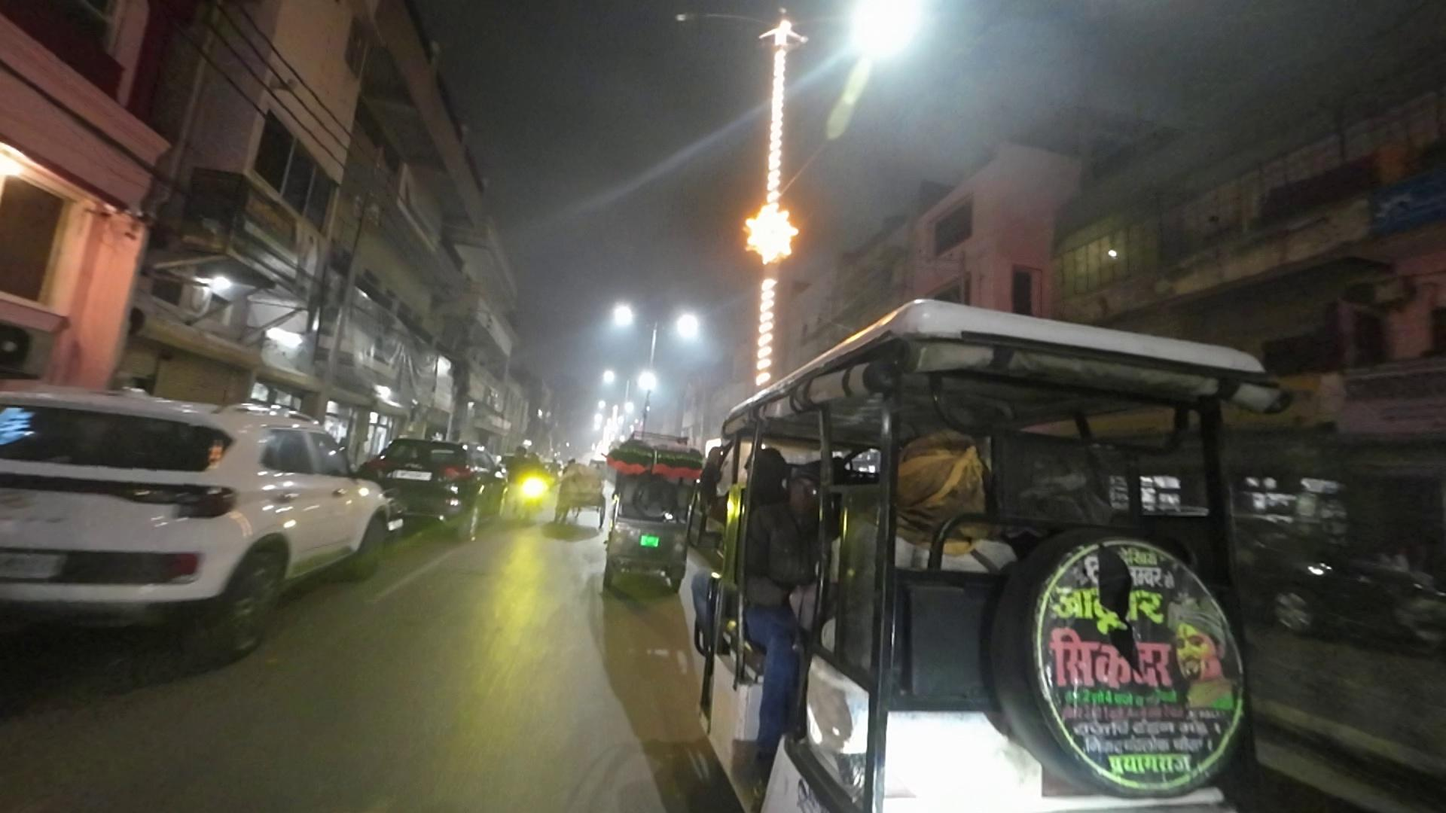streetlight: (667, 7, 764, 31)
